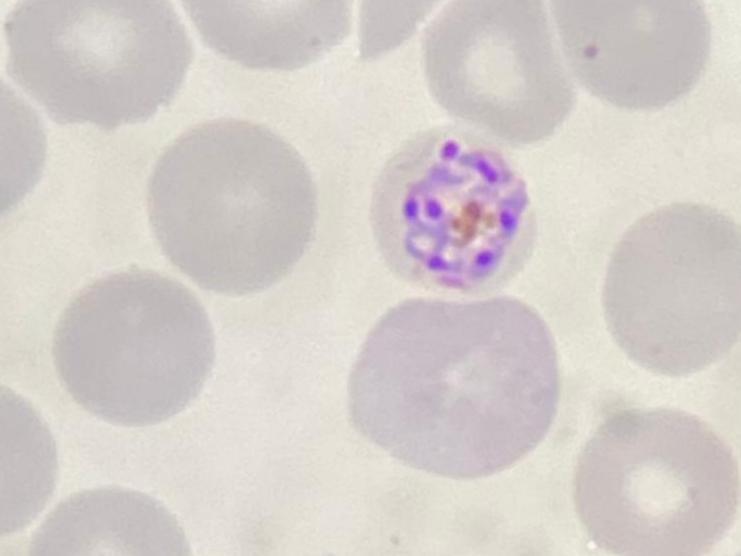Infected: (370, 128, 537, 295)
Uninfected: (349, 296, 557, 477), (147, 120, 317, 297), (51, 269, 214, 428), (8, 0, 191, 129), (601, 203, 739, 374), (573, 408, 733, 553), (421, 0, 574, 145), (557, 0, 710, 111), (180, 1, 350, 72), (27, 487, 194, 556)
